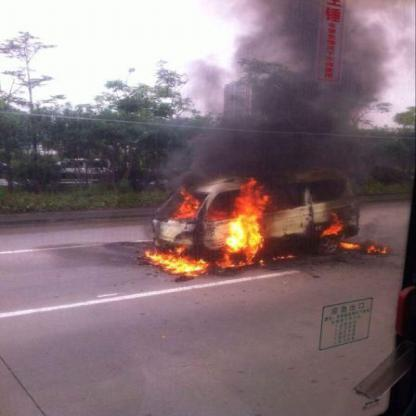fire: (226, 190, 263, 250), (162, 252, 207, 277), (174, 190, 200, 218), (138, 248, 164, 262), (212, 254, 233, 268), (236, 250, 254, 266), (366, 242, 386, 254), (320, 224, 342, 232), (339, 242, 364, 249), (330, 212, 344, 224)
